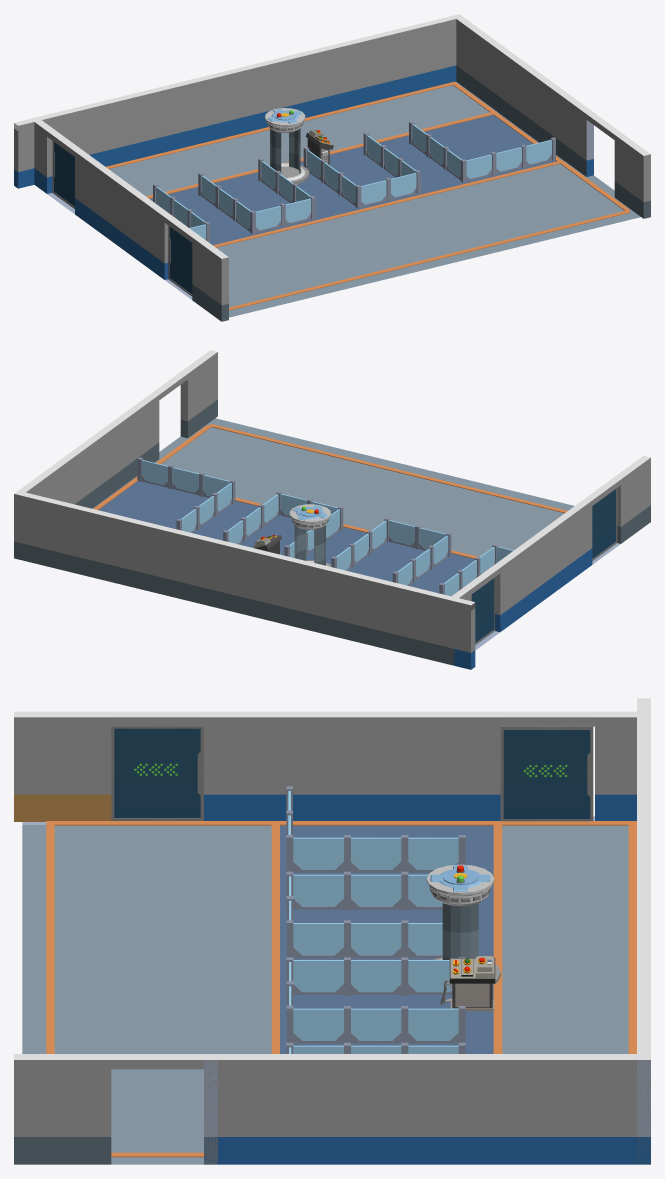
The model's file is background.glb.
3 views of the same model, one above another, from view 1: azimuth 30°, elevation 25°; view 2: azimuth 150°, elevation 25°; view 3: azimuth 270°, elevation 25° (orthographic). The views are drawn at different scales.
Visible parts, largest first — view 1: outer_walls_floor; view 2: outer_walls_floor; view 3: outer_walls_floor.
Part boxes in pixels (<box>): outer_walls_floor: <box>14,14,650,321</box>; outer_walls_floor: <box>14,350,650,669</box>; outer_walls_floor: <box>14,698,650,1164</box>.
Bounding box in the file's own units: 76.88 × 10.63 × 57.23.
Materials: 1 (1 with a texture image).
